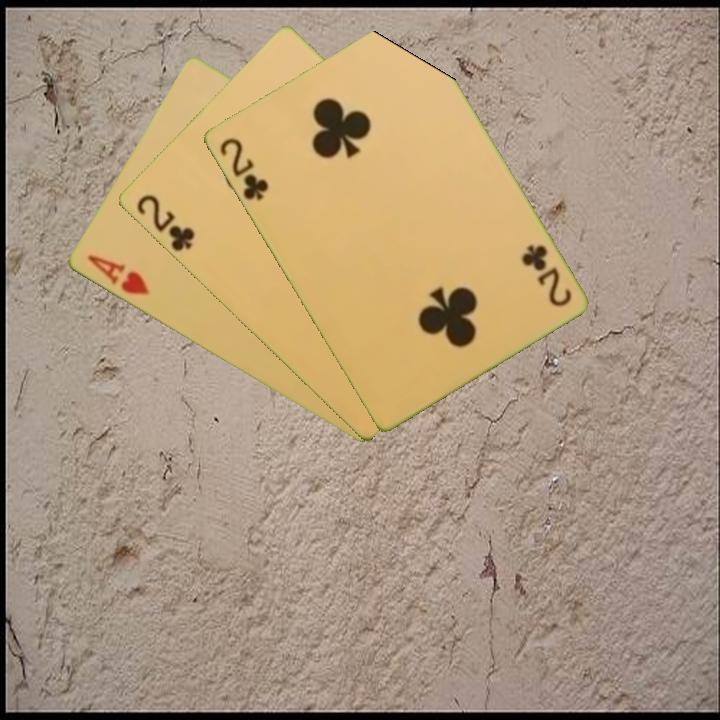2c: (132, 191, 197, 254), (517, 240, 575, 310), (215, 134, 271, 204)
Ah: (83, 251, 152, 298)
